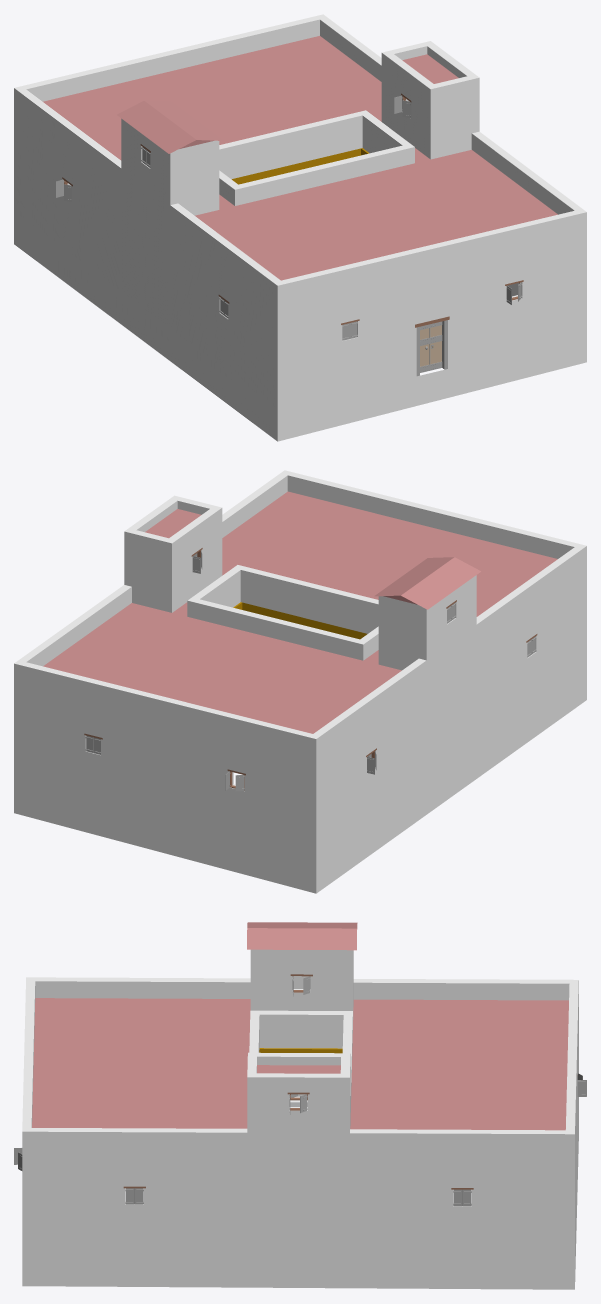
The model's file is LOD_Block_2_68.glb.
3 renders of one model, top to bottom at view 1: azimuth 30°, elevation 25°; view 2: azimuth 150°, elevation 25°; view 3: azimuth 270°, elevation 25°, orthographic. The views are drawn at different scales.
Visible parts, largest first — view 1: _1.3670; view 2: _1.3670; view 3: _1.3670.
Part boxes in pixels (<box>): _1.3670: <box>14,14,586,441</box>; _1.3670: <box>14,470,586,893</box>; _1.3670: <box>14,922,586,1289</box>.
Size of the model in its own units: 20.64 by 13.32 by 30.97.
